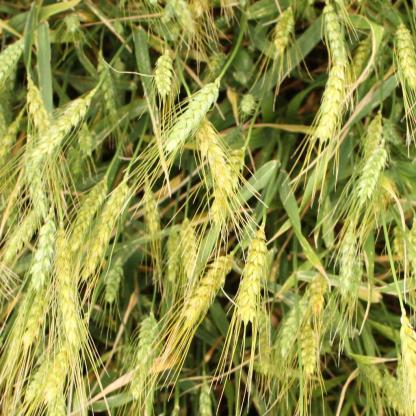whd: (24, 90, 94, 180), (81, 184, 131, 280), (166, 78, 219, 150), (182, 254, 232, 329), (44, 318, 86, 403), (68, 178, 109, 252), (53, 228, 78, 348), (196, 116, 233, 194), (237, 229, 266, 326), (314, 63, 346, 142), (211, 148, 244, 222), (21, 275, 53, 347), (6, 290, 36, 361), (31, 207, 56, 291), (354, 147, 388, 206), (4, 208, 42, 260), (26, 347, 60, 403), (26, 72, 54, 137), (399, 308, 416, 414), (96, 50, 119, 118), (322, 4, 348, 63), (280, 299, 305, 357), (394, 23, 415, 88), (0, 35, 25, 84), (0, 110, 23, 160), (179, 218, 198, 278), (350, 36, 372, 83), (340, 230, 355, 298), (274, 6, 296, 52), (154, 50, 173, 103), (258, 306, 272, 374), (104, 257, 124, 304), (300, 324, 318, 376), (364, 113, 383, 161), (142, 185, 160, 235), (139, 314, 158, 361), (356, 356, 382, 387), (30, 168, 46, 218), (174, 2, 197, 34), (167, 226, 179, 283), (406, 216, 416, 276), (198, 379, 214, 416), (392, 221, 406, 262), (382, 374, 398, 409), (396, 354, 406, 407), (78, 122, 94, 155), (47, 385, 63, 416), (67, 150, 84, 178), (354, 258, 364, 303), (383, 118, 400, 144), (134, 362, 146, 398), (120, 340, 137, 364), (62, 12, 81, 32), (139, 296, 160, 314), (240, 94, 256, 115), (230, 70, 249, 86), (310, 274, 325, 294), (319, 335, 332, 357), (209, 52, 223, 72), (113, 58, 125, 78), (161, 5, 175, 22), (310, 296, 324, 312), (194, 0, 206, 17), (393, 102, 403, 119), (76, 10, 88, 22), (114, 19, 123, 33)
